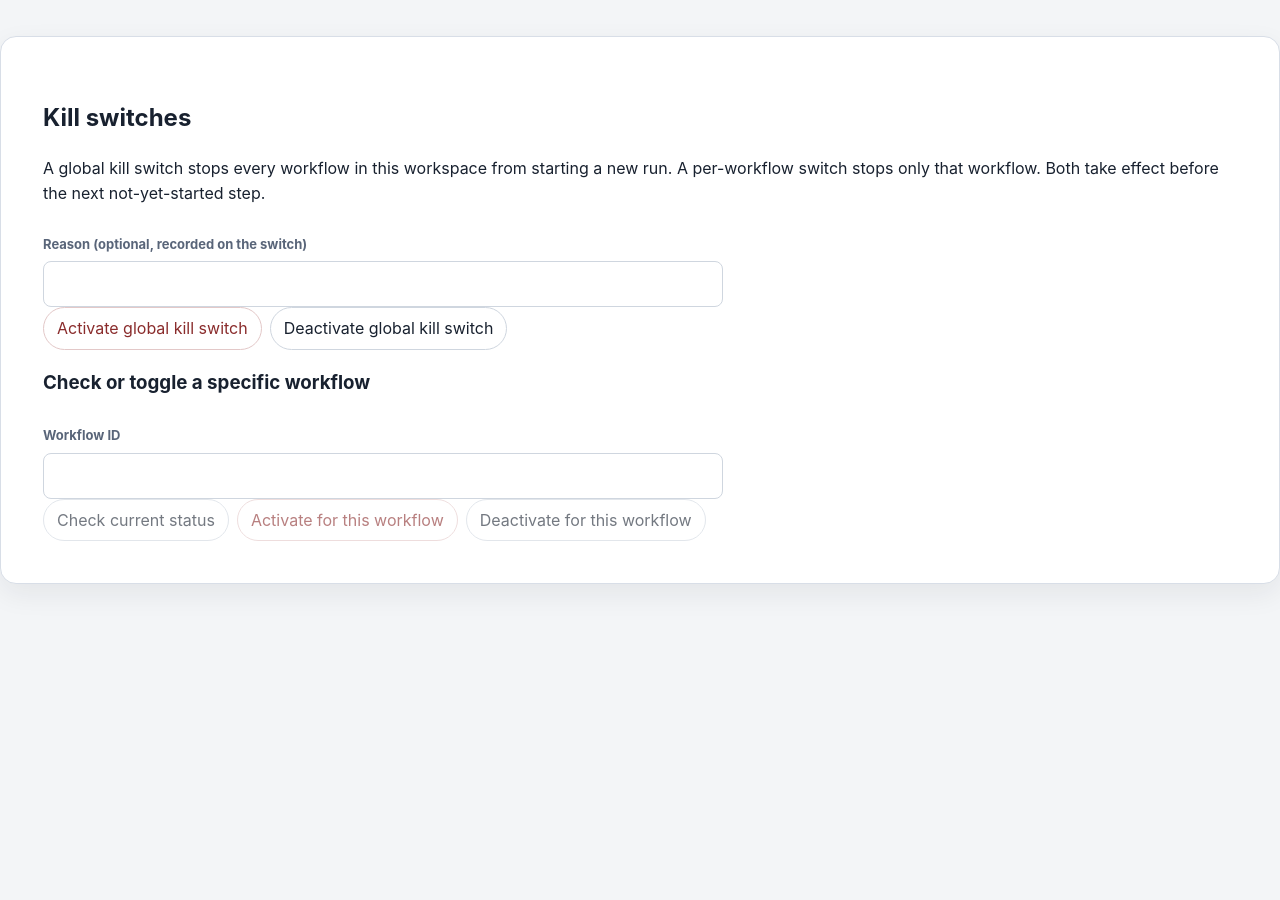
Test case: KillSwitchPanel › reports an unreadable kill-switch lookup as unknown, never as an empty (implicitly "not blocked") panel
The image size is (1280, 900).
Type "weekly-digest" into the field named "Workflow ID to check". click: x=383, y=476
box: [43,452,723,499]
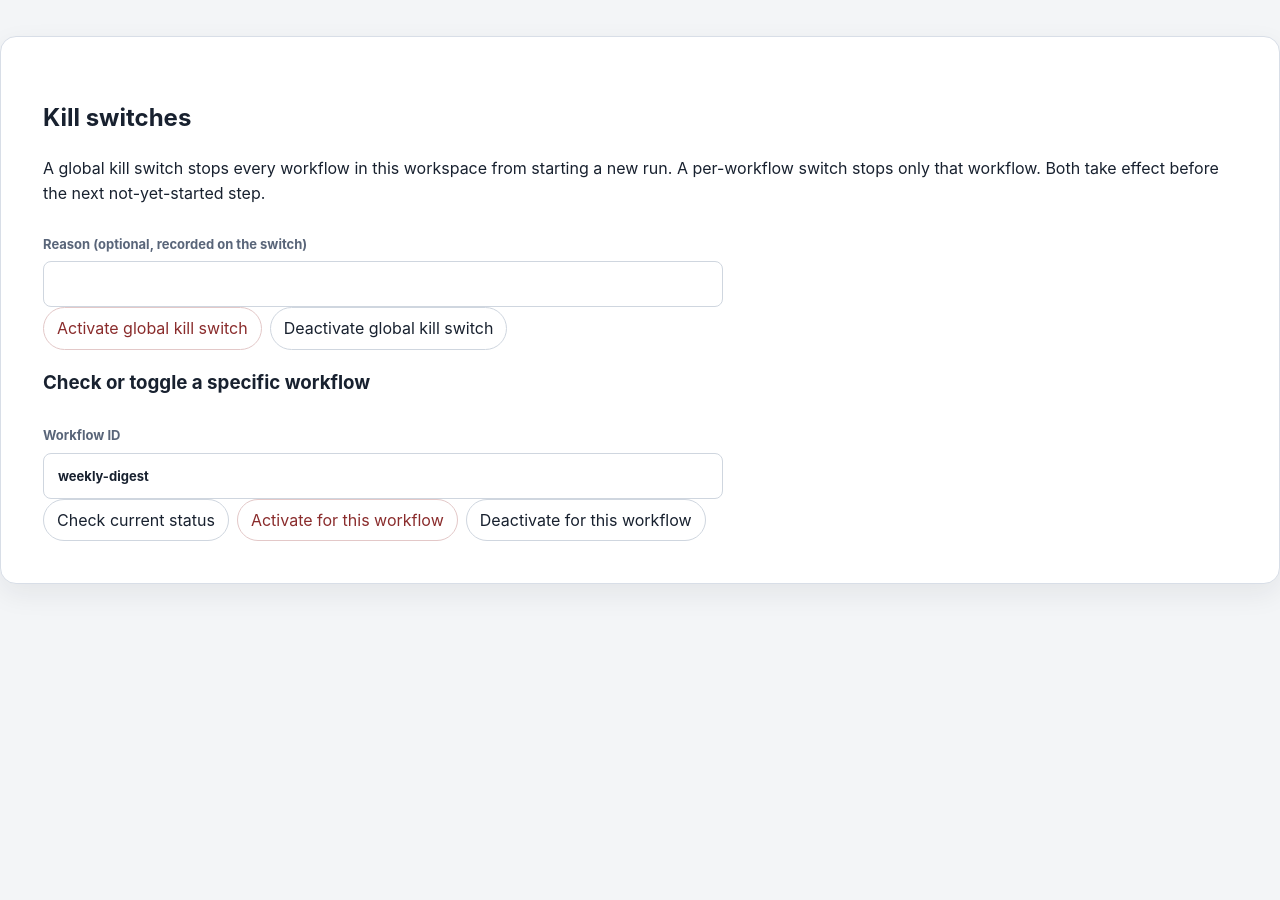
Click the button "Check current status". click: x=136, y=520
box: [43,499,229,542]
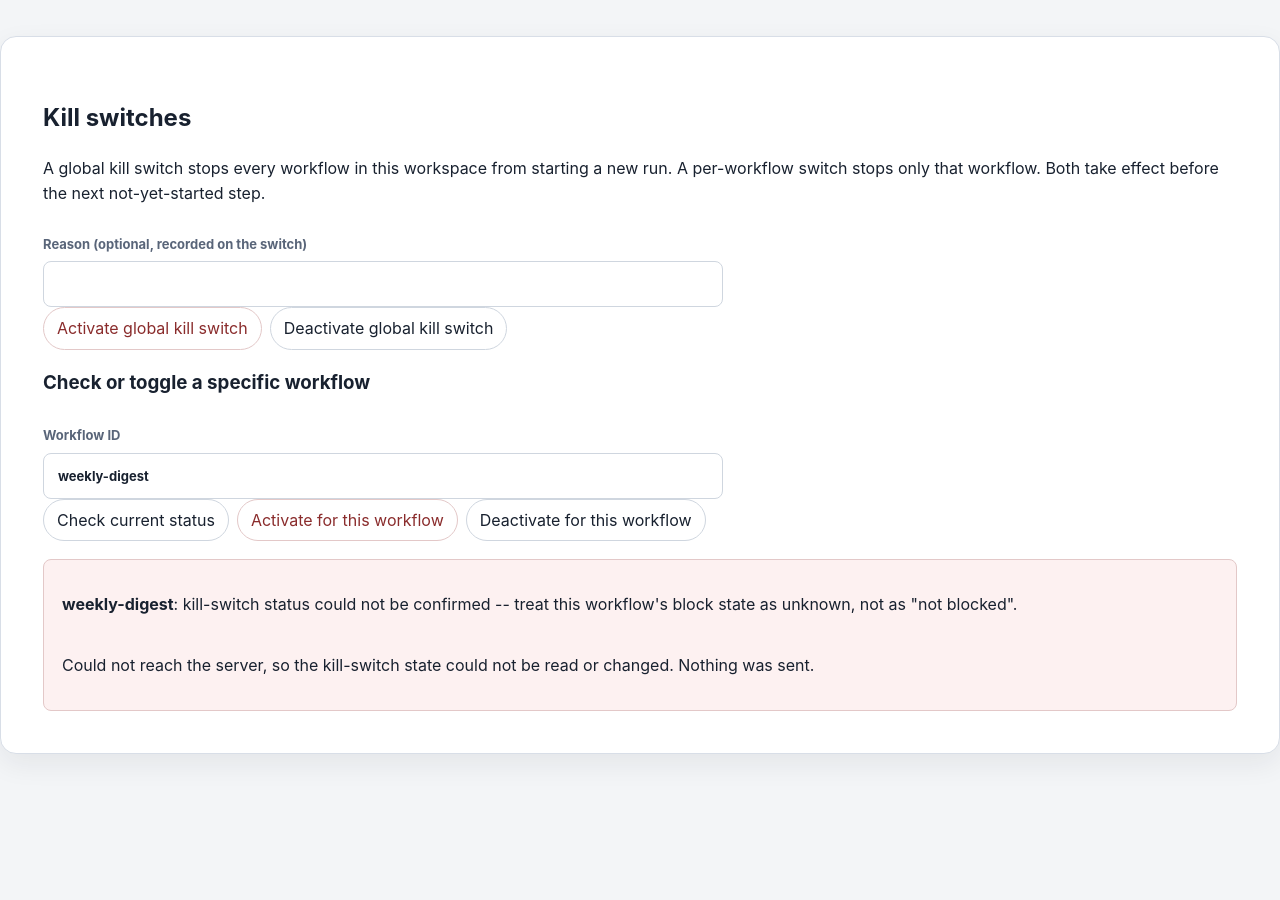
Result: the message shows "kill-switch status could not be confirmed" at [174,594,1018,614]
Result: the message shows "treat this workflow's block state as unknown" at [174,594,1018,614]
Result: the message shows "Could not reach the server" at [62,655,814,675]
